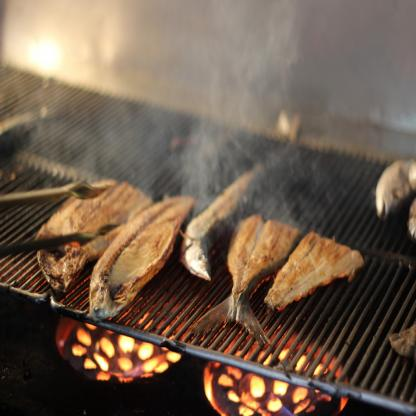Peixe: (35, 152, 187, 327), (214, 203, 359, 340)
